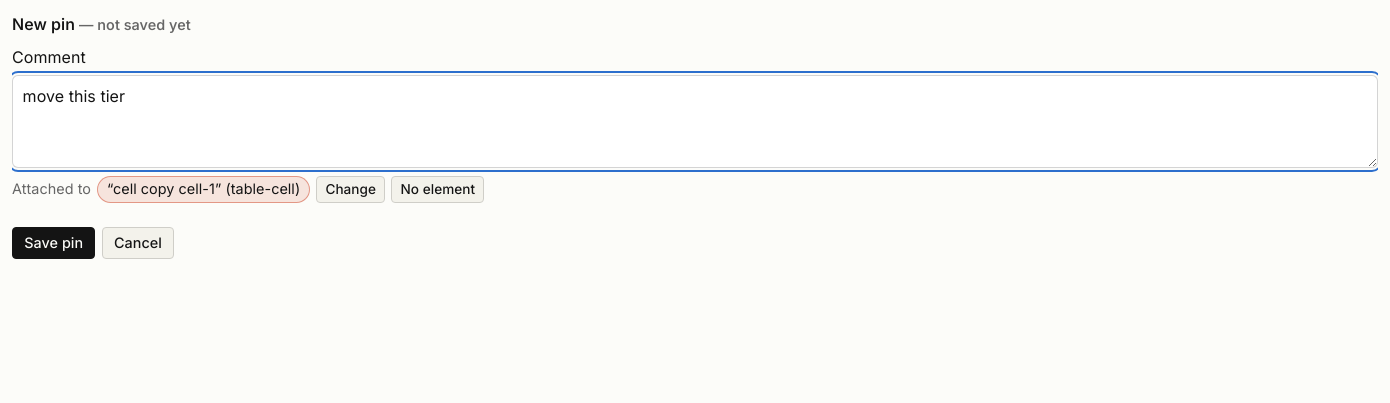
Test: a box or circle attached to several elements (D125) › a pin keeps a single choice
The width and height of the screenshot is (1390, 403).
Click the button "Change": [351, 189] box [316,176,385,203]
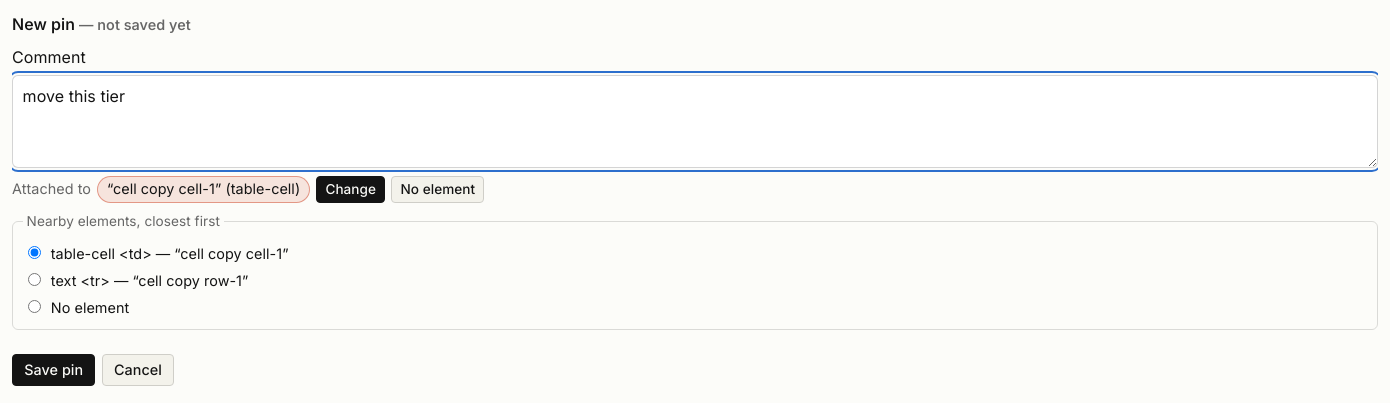
Now the number of radio buttons is 3, box [28,246,41,258]; [28,273,41,286]; [28,300,41,313]
